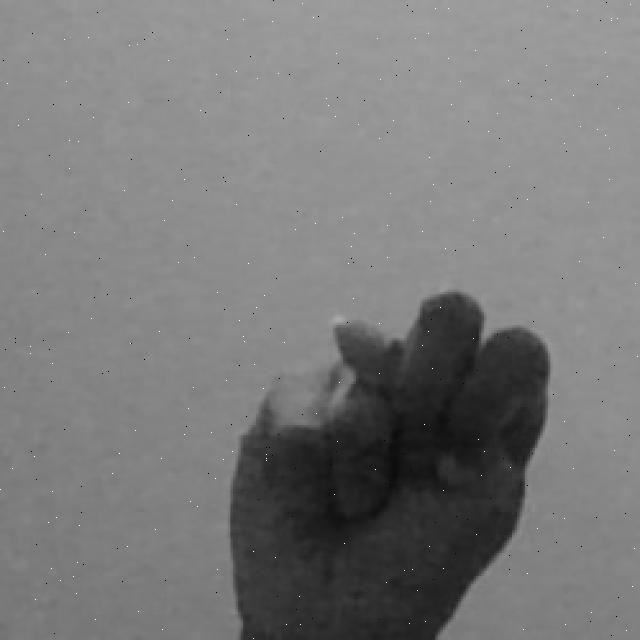N: (232, 276, 562, 640)
